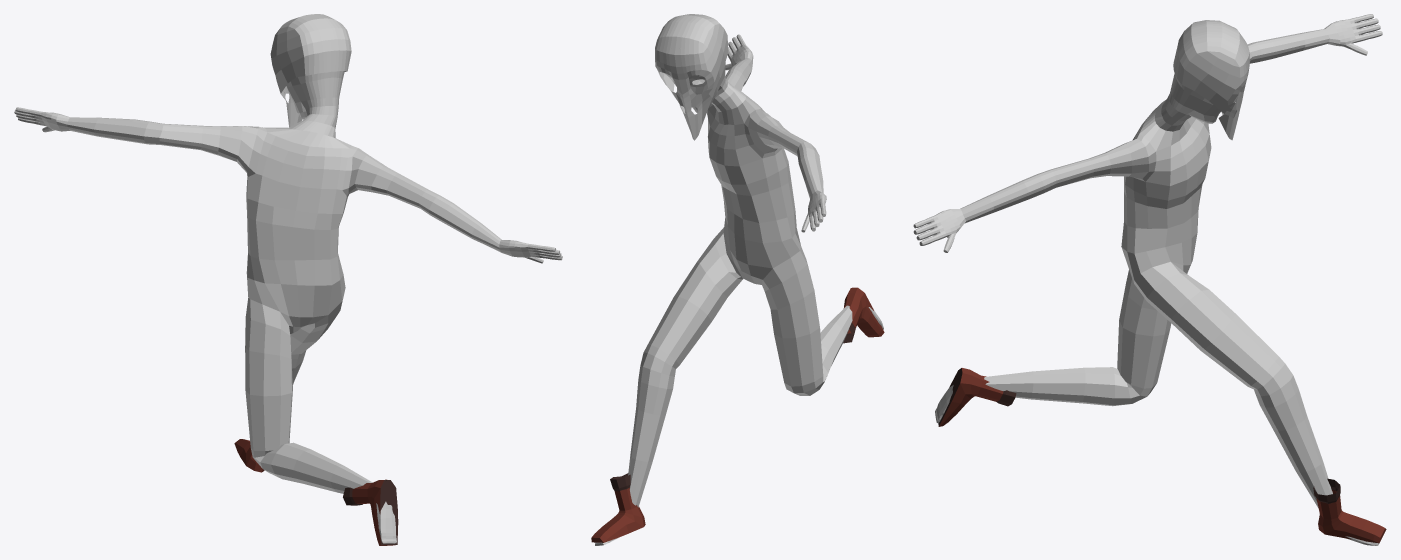
File: saltoadelante_000118.obj
3 renders of one model, left to right at view 1: azimuth 30°, elevation 25°; view 2: azimuth 150°, elevation 25°; view 3: azimuth 270°, elevation 25°, orthographic. The views are drawn at different scales.
Parts seen in each view (by area): view 1: Plane.002_Plane.001, Plane.004; view 2: Plane.002_Plane.001, Plane.003, Plane.004; view 3: Plane.002_Plane.001, Plane.003, Plane.004.
Boxes of the visible parts, x1=… form: Plane.002_Plane.001: x1=14, y1=14, x2=562, y2=543; Plane.004: x1=343, y1=479, x2=398, y2=545; Plane.002_Plane.001: x1=595, y1=14, x2=883, y2=545; Plane.003: x1=591, y1=473, x2=645, y2=542; Plane.004: x1=843, y1=287, x2=884, y2=343; Plane.002_Plane.001: x1=913, y1=14, x2=1382, y2=545; Plane.003: x1=1313, y1=478, x2=1386, y2=543; Plane.004: x1=938, y1=368, x2=1016, y2=426.
Bounding box in the file's own units: 4.26 × 6.23 × 5.23.
